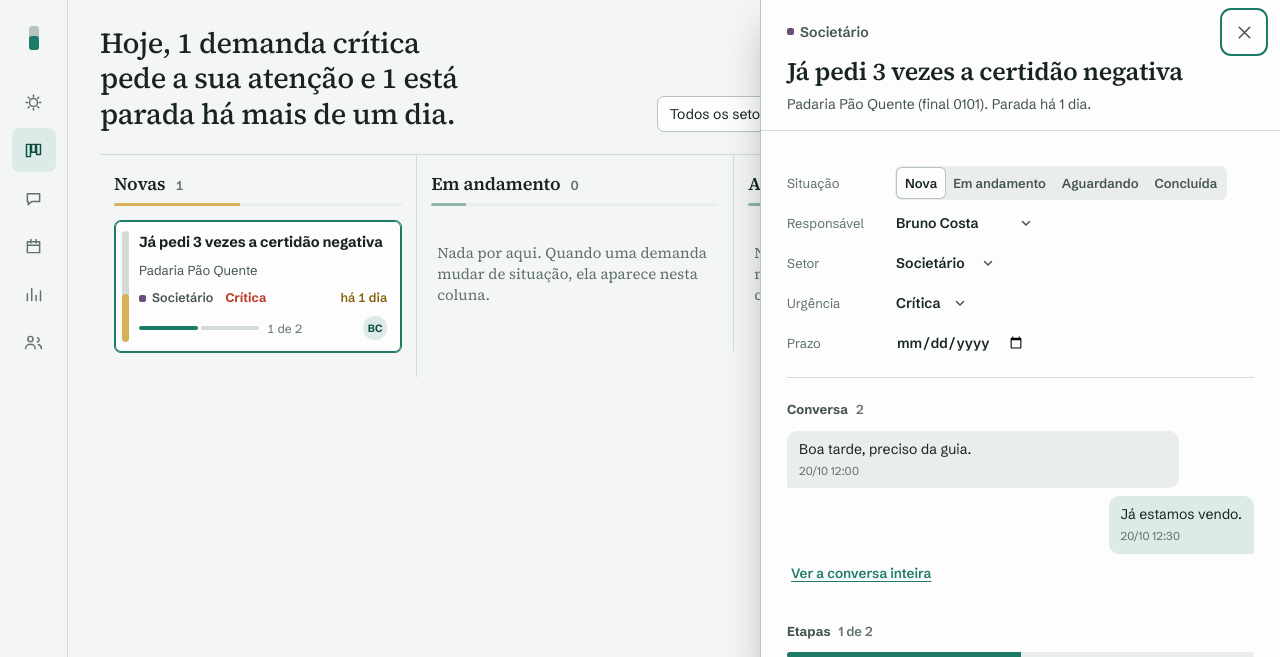
Scenario: demand drawer: editing › shows why a change was refused
Select "Fiscal" in the dropdown named "Setor" at [946, 263], box [887, 247, 1005, 279]
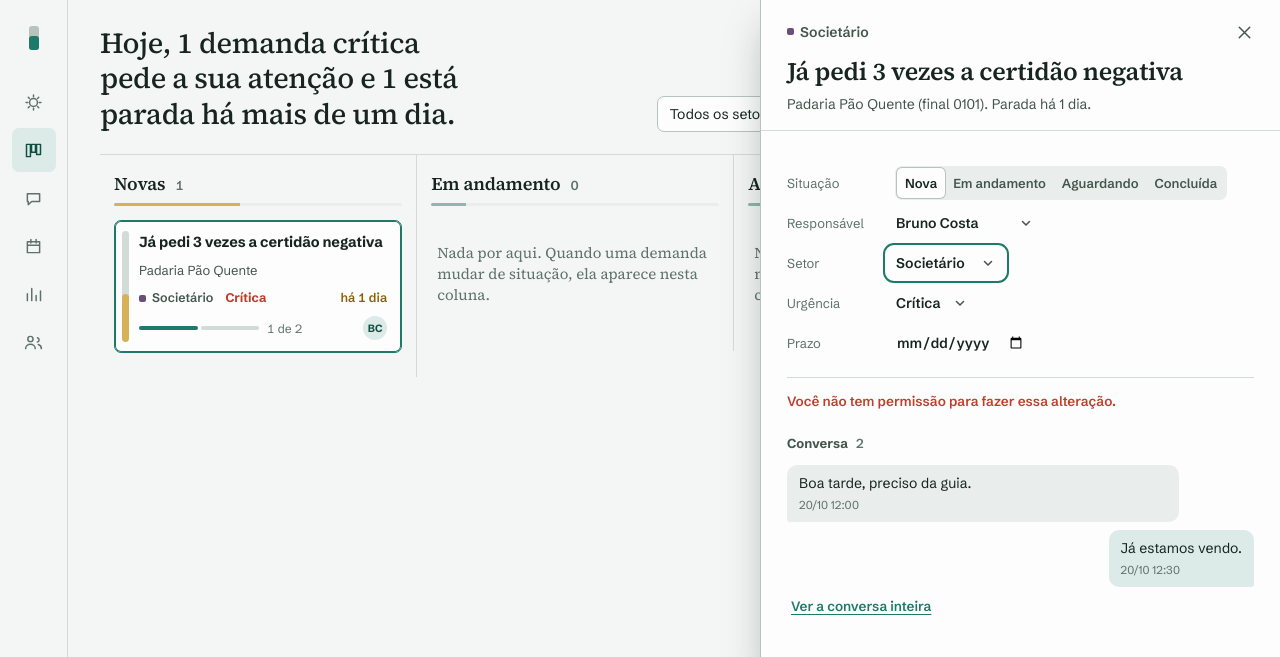
Result: the message reads "Você não tem permissão para fazer essa alteração." at [787, 393, 1116, 409]
